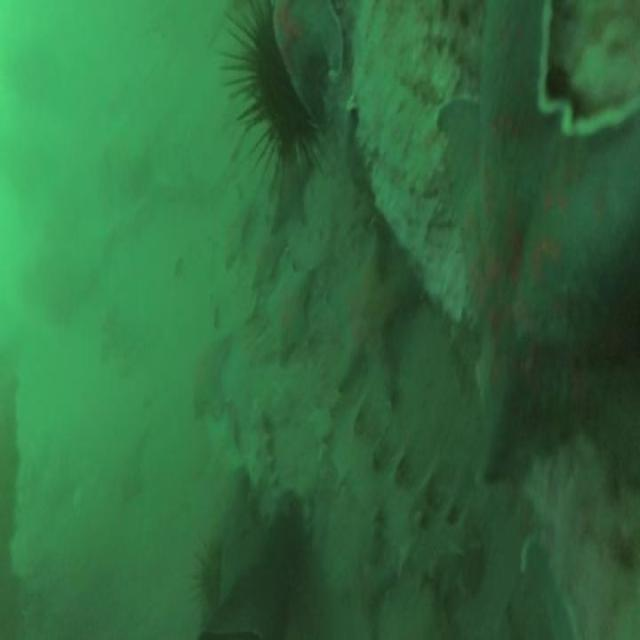echinus: (213, 1, 328, 204), (179, 523, 231, 621)
holothurian: (303, 378, 482, 612)
starfish: (434, 0, 640, 491), (324, 232, 420, 410), (268, 0, 343, 123), (259, 262, 321, 368), (184, 308, 237, 425), (258, 137, 314, 242), (104, 436, 155, 517), (249, 223, 288, 294), (220, 194, 256, 270)
